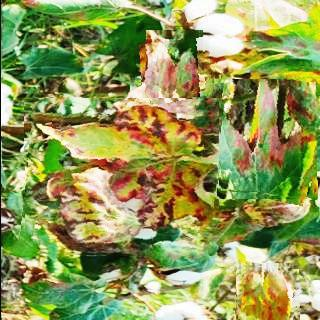blight: (23, 98, 218, 258), (201, 79, 320, 201), (129, 39, 217, 128), (236, 263, 299, 320)
